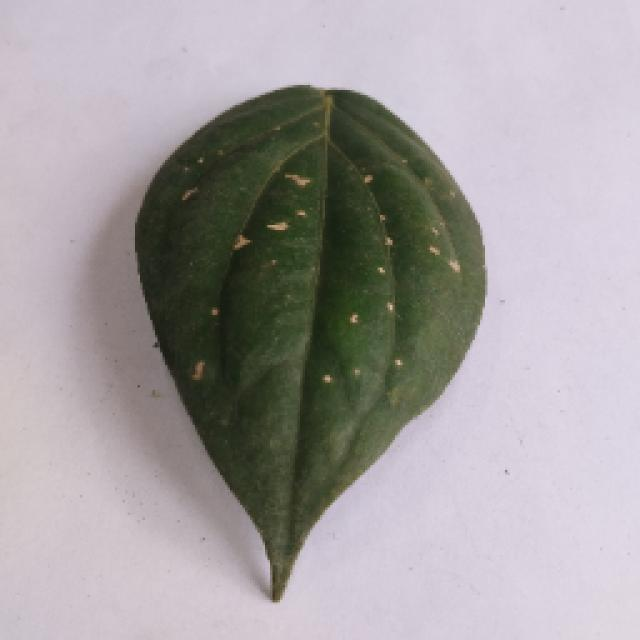pollu-disease: (118, 82, 498, 598)
